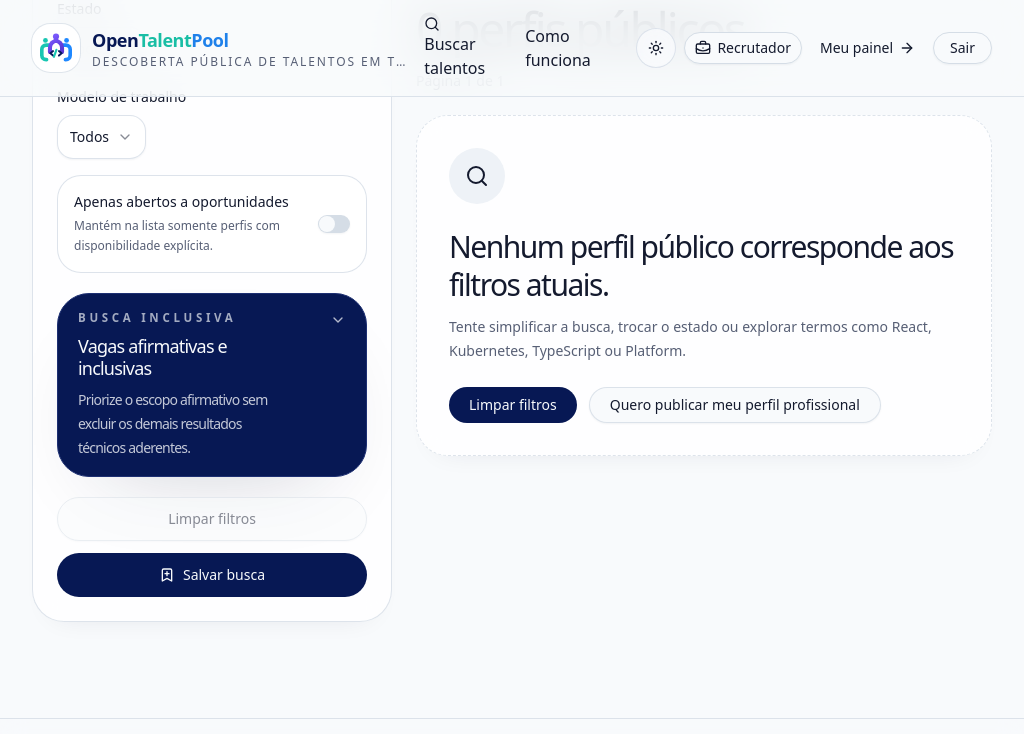
it: Search › mostra mensagem útil de validação da API em vez do código cru na busca inclusiva
(page scrolled)
Click the button "Vagas afirmativas e inclusivas": [157, 318] box [58, 294, 366, 476]
(page scrolled)
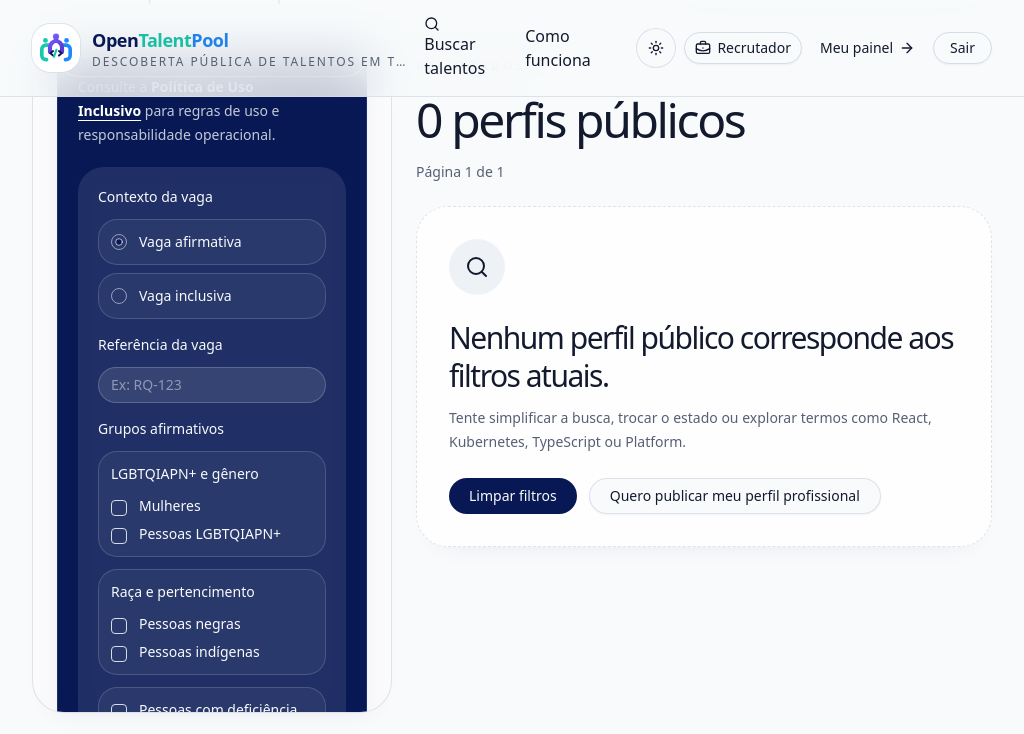
In the field labelled "Referência da vaga": [212, 385] box [98, 367, 326, 403], type "RQ"
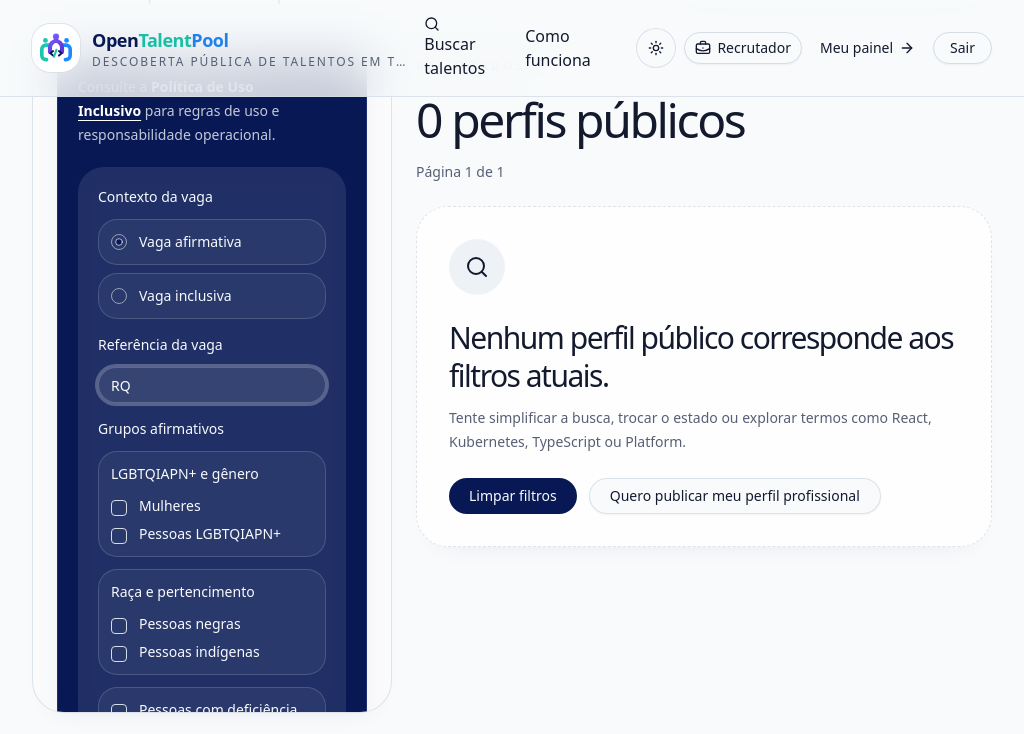
Click the checkbox named "mulheres" next to "Mulheres": [119, 508] box [111, 500, 127, 516]
(page scrolled)
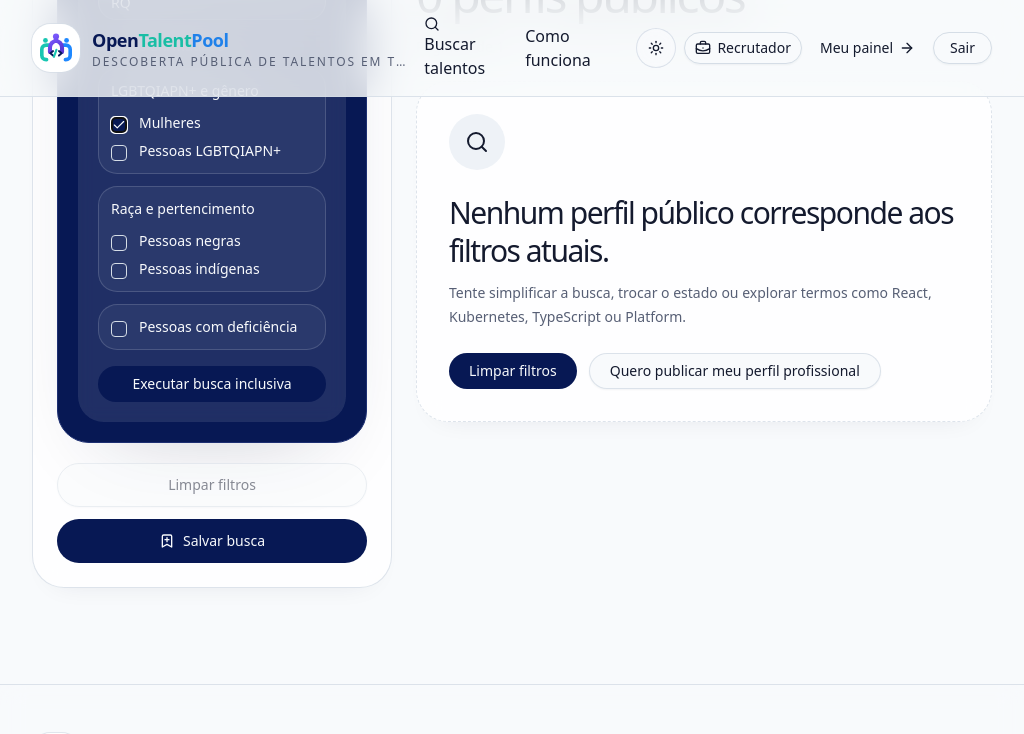
Click the button "Executar busca inclusiva": [212, 384] box [98, 366, 326, 402]
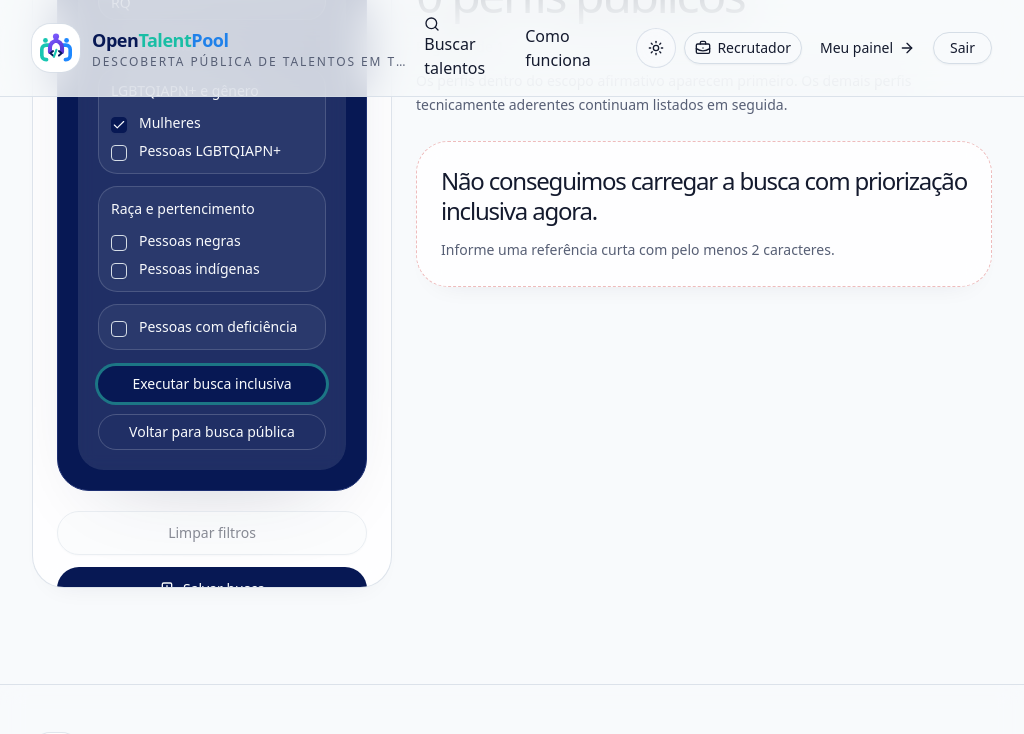
Check: the text "Informe uma referência curta com pelo menos 2 caracteres." is shown, box [441, 240, 835, 259]
